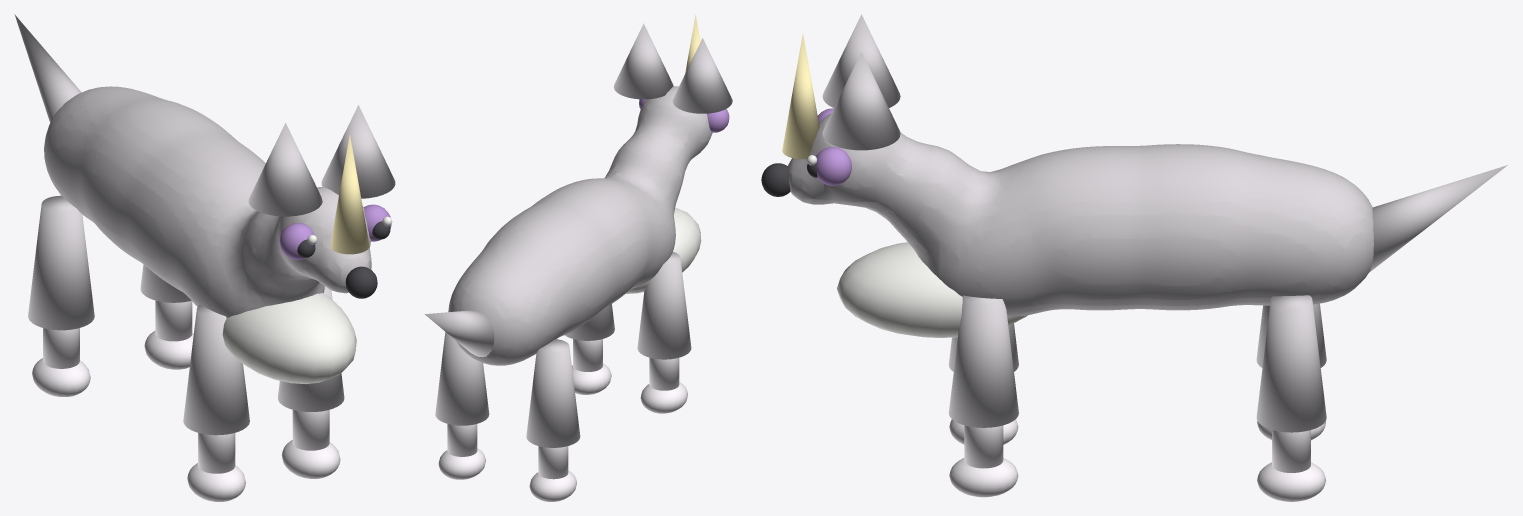
The model's file is Unicorn.fbx.
The picture shows the model from 3 angles, left to right: view 1: azimuth 30°, elevation 25°; view 2: azimuth 150°, elevation 25°; view 3: azimuth 270°, elevation 25°; orthographic projection. The views are drawn at different scales.
Visible parts, largest first — view 1: Unicorn; view 2: Unicorn; view 3: Unicorn.
Part boxes in pixels (box(x1,y1,x2,y2)): Unicorn: box(14, 14, 395, 501); Unicorn: box(425, 15, 732, 501); Unicorn: box(761, 14, 1507, 501).
Bounding box in the file's own units: 159 × 370 × 574.
